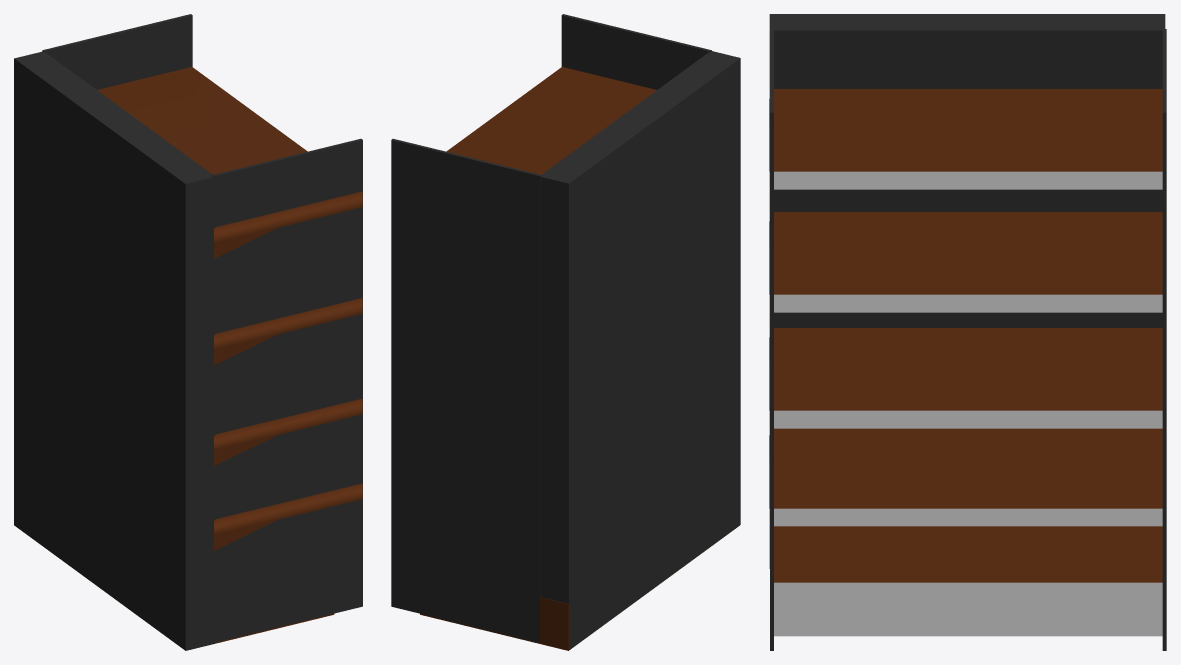
Rendered from white_shelf.fbx.
3 renders of one model, left to right at view 1: azimuth 30°, elevation 25°; view 2: azimuth 150°, elevation 25°; view 3: azimuth 270°, elevation 25°, orthographic. The views are drawn at different scales.
Parts seen in each view (by area): view 1: pCube2, pCube7, pCube6, pCube109, pCube5, pCube4, pCube3; view 2: pCube2, pCube109, pCube6, pCube7, pCube1; view 3: pCube2, pCube1, pCube6, pCube5, pCube4, pCube3, pCube109, pCube7.
Part boxes in pixels (<box>): pCube2: <box>14,51,215,650</box>; pCube7: <box>212,138,362,642</box>; pCube6: <box>97,67,362,258</box>; pCube109: <box>42,14,192,89</box>; pCube5: <box>214,298,362,365</box>; pCube4: <box>214,398,362,465</box>; pCube3: <box>214,483,362,550</box>; pCube2: <box>540,51,740,649</box>; pCube109: <box>391,138,541,642</box>; pCube6: <box>446,67,656,174</box>; pCube7: <box>561,14,711,89</box>; pCube1: <box>420,525,739,650</box>; pCube2: <box>769,14,1165,568</box>; pCube1: <box>774,526,1162,636</box>; pCube6: <box>769,89,1162,189</box>; pCube5: <box>769,212,1162,312</box>; pCube4: <box>769,328,1162,428</box>; pCube3: <box>769,428,1162,526</box>; pCube109: <box>1162,29,1166,650</box>; pCube7: <box>770,29,773,650</box>.
Bounding box in the file's own units: 0.5983 × 1.51 × 1.01.
